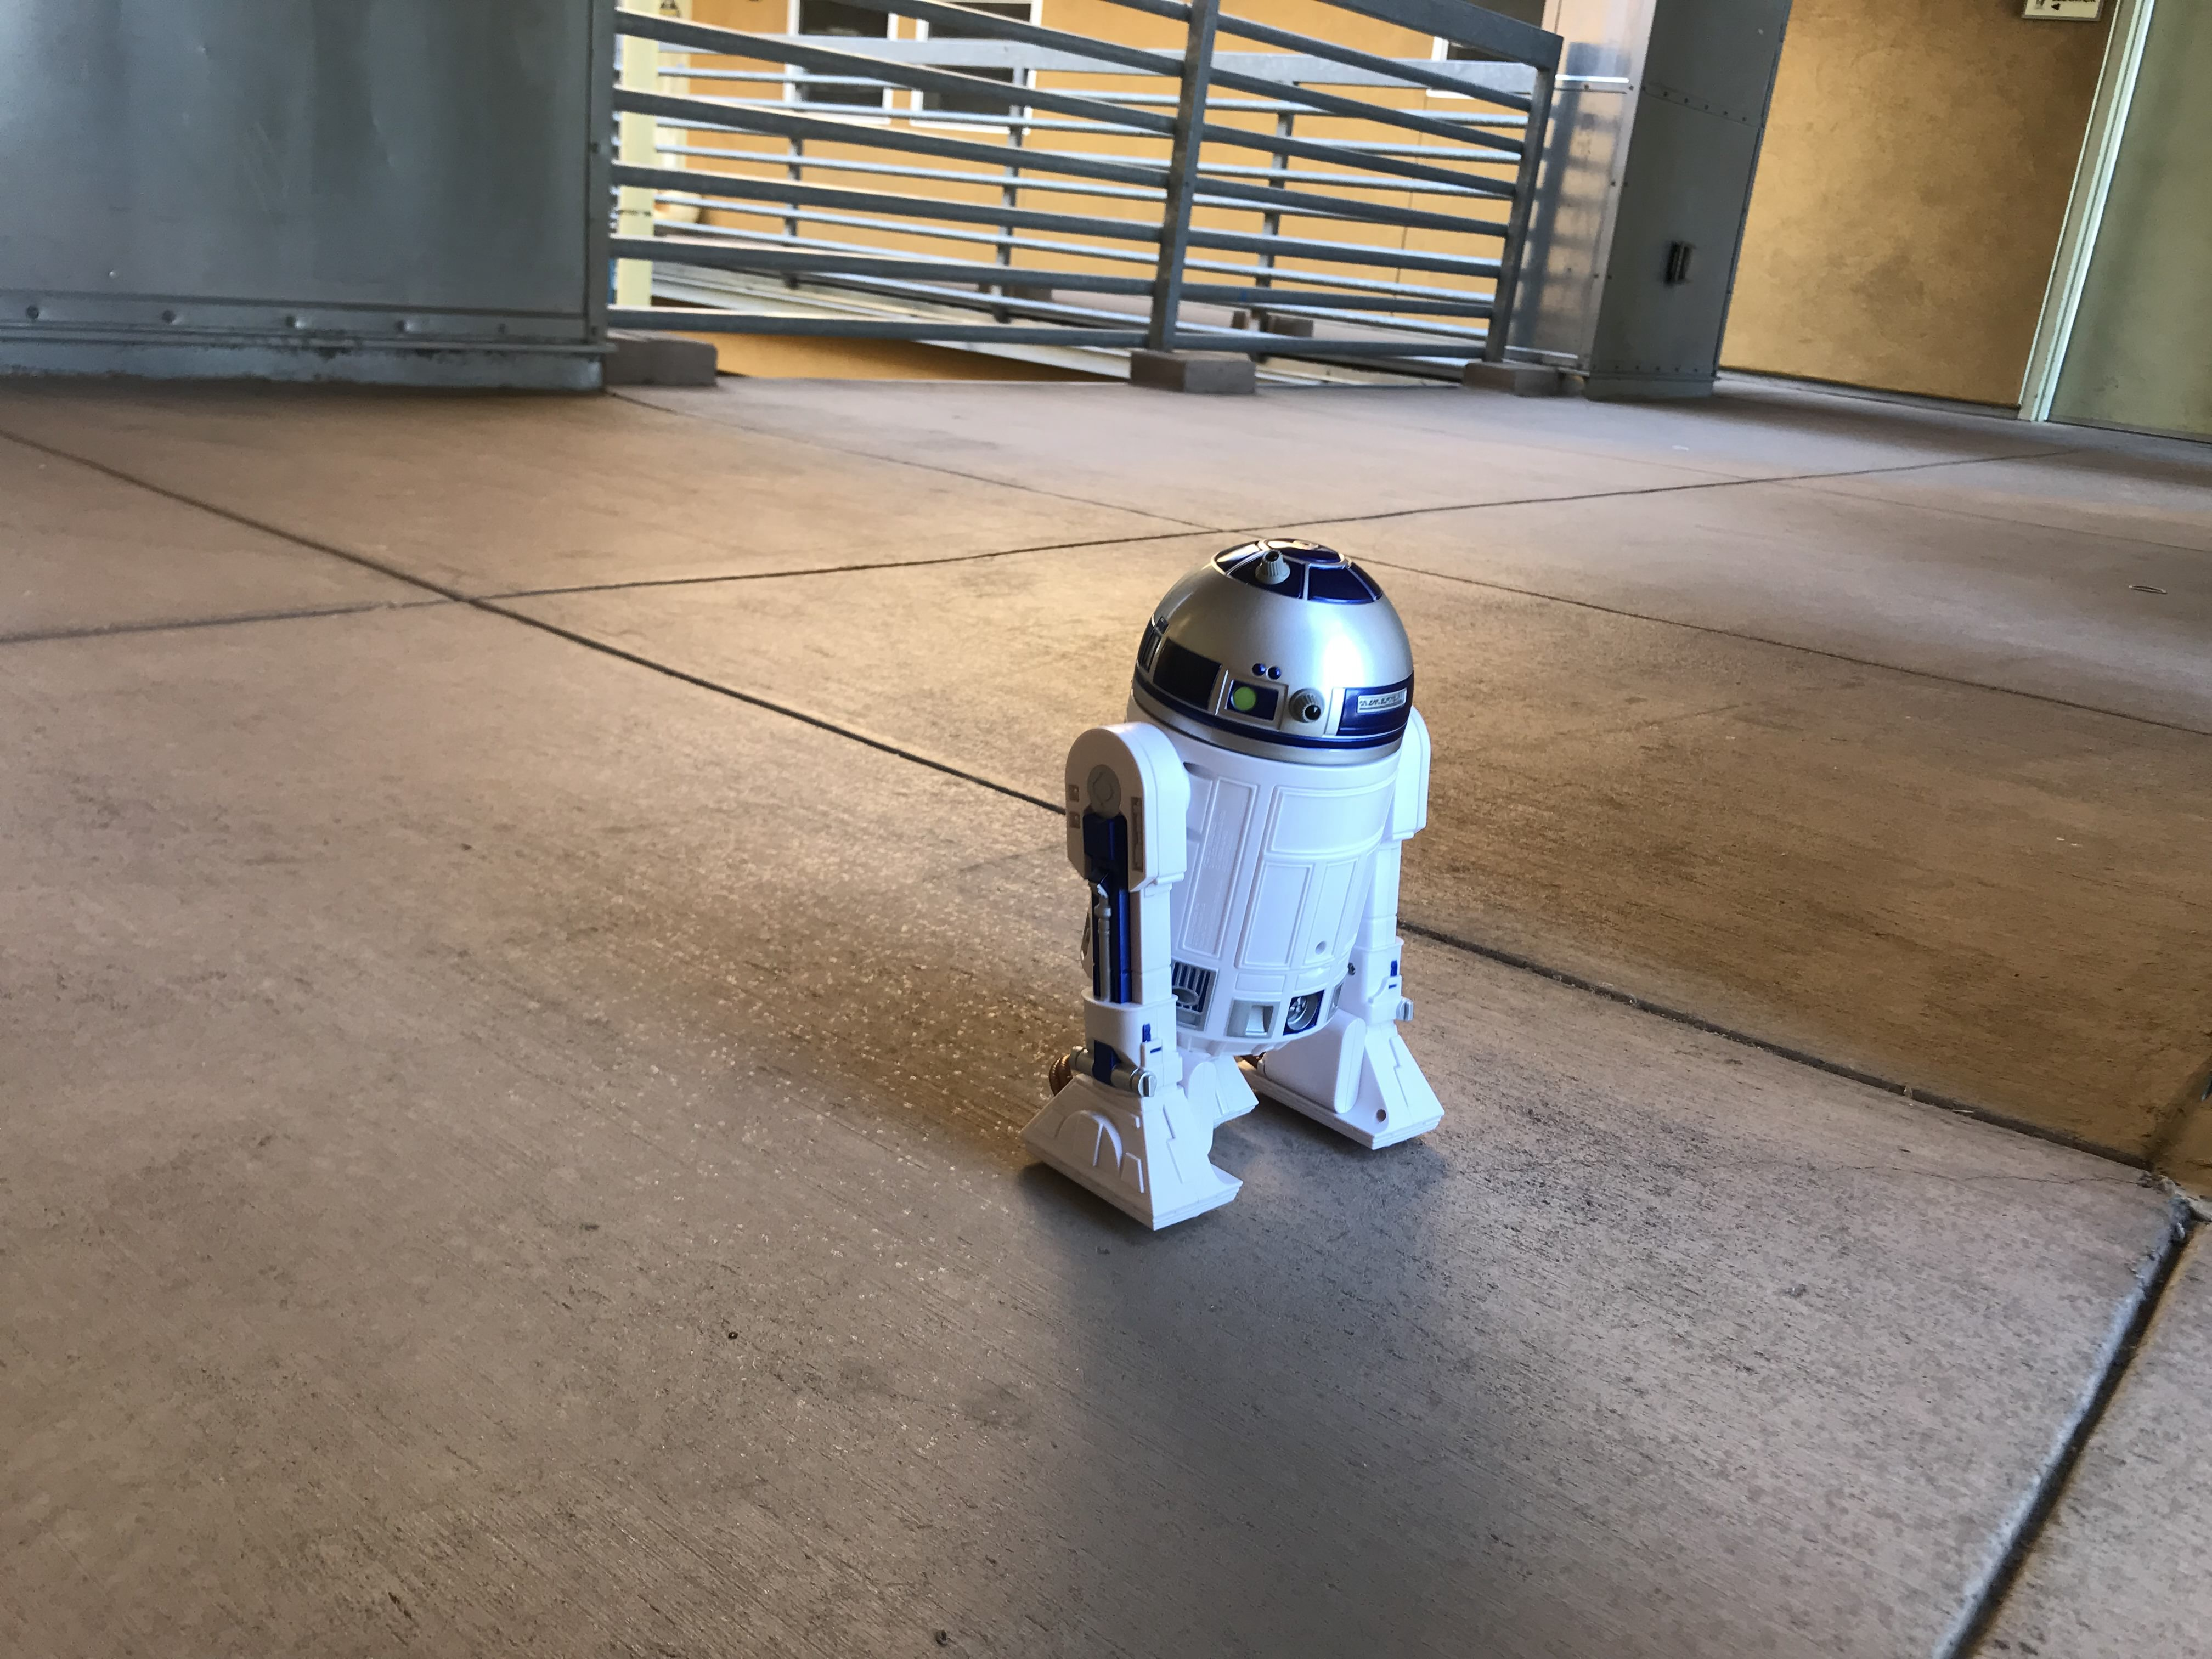r2d2: (1026, 540, 1444, 1237)
